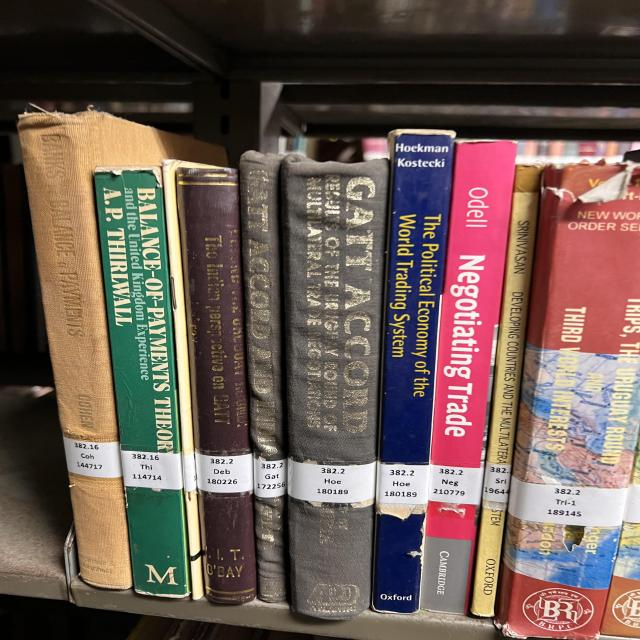Book: (18, 110, 227, 589), (497, 164, 640, 640), (282, 156, 388, 620), (420, 141, 515, 614), (95, 166, 190, 598), (373, 130, 455, 612), (177, 168, 257, 604), (240, 151, 287, 602), (483, 164, 543, 504), (472, 508, 503, 616)
Label: (508, 478, 628, 526), (288, 458, 377, 502), (122, 450, 183, 490), (63, 438, 122, 478), (195, 452, 253, 492), (377, 462, 430, 505), (428, 465, 483, 505), (253, 458, 287, 498), (483, 462, 512, 502)
